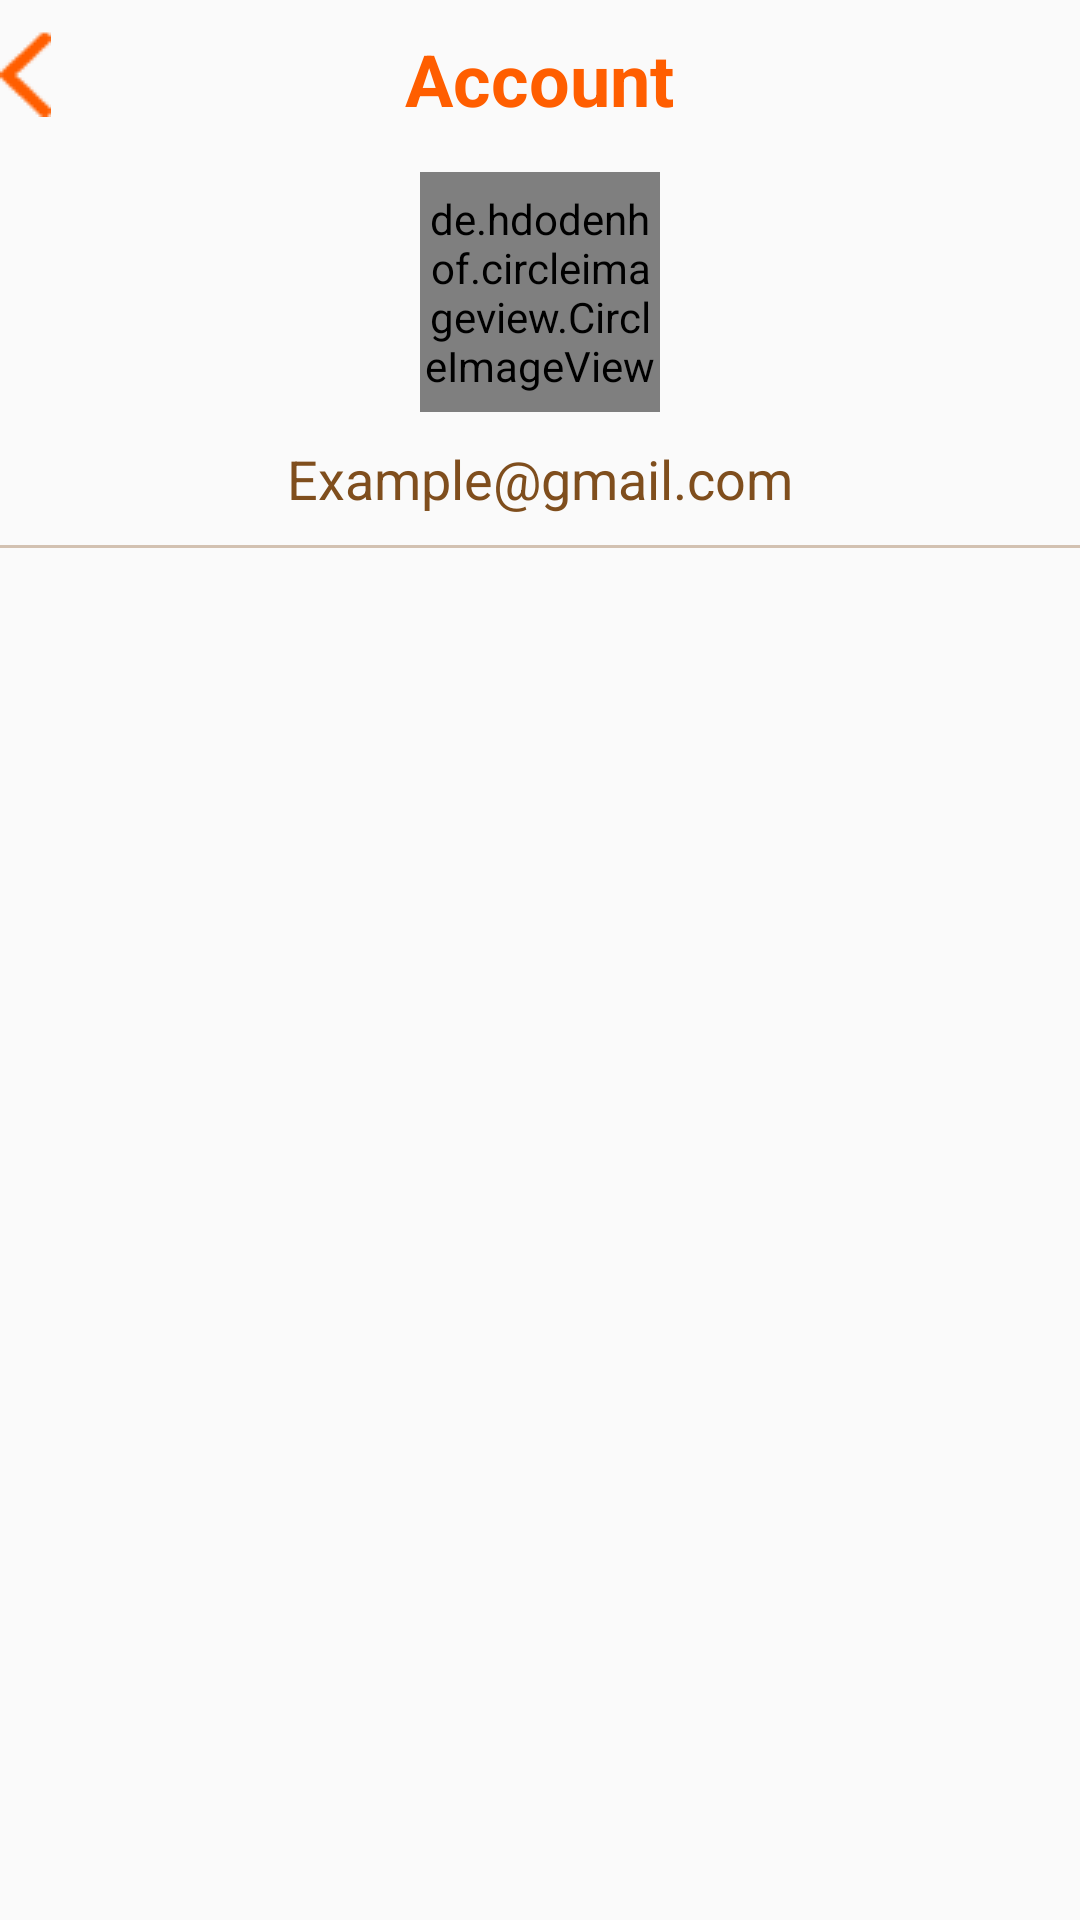

Named icons in this screenshot (1080px×1920px) and their centers, (x,y):
back: (25,74)
